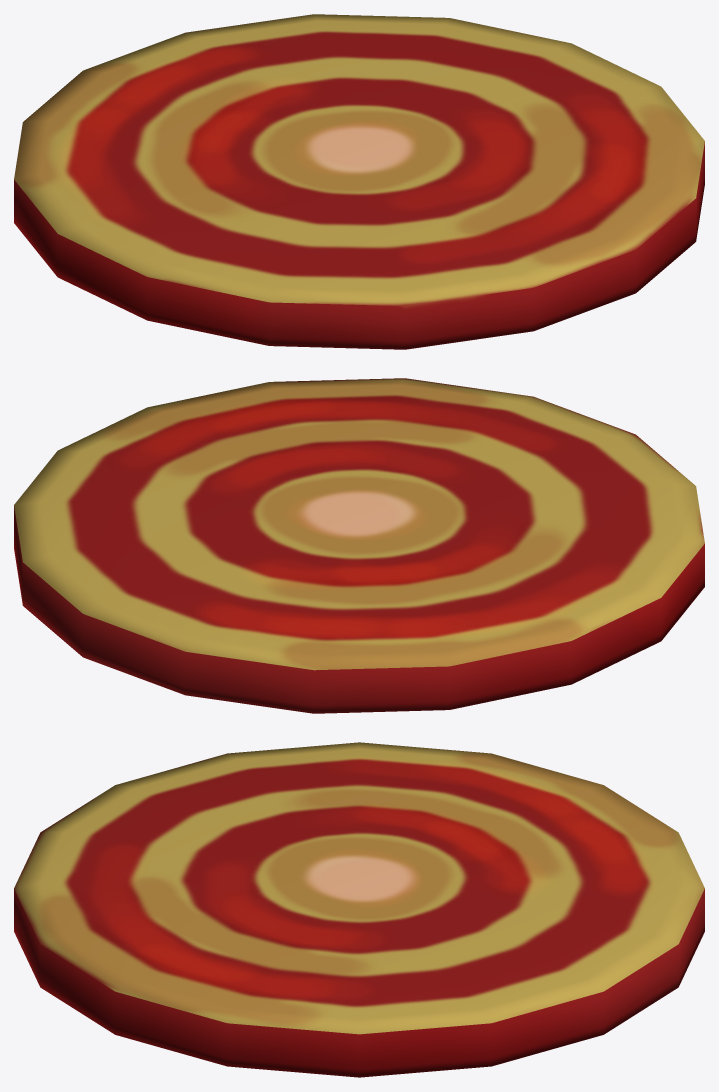
The model's file is spring_top.glb.
3 views of the same model, one above another, from view 1: azimuth 30°, elevation 25°; view 2: azimuth 150°, elevation 25°; view 3: azimuth 270°, elevation 25° (orthographic).
Visible parts, largest first — view 1: Top; view 2: Top; view 3: Top.
Boxes of the visible parts, x1,y1,x2,y2 form: Top: (14, 14, 704, 349); Top: (14, 378, 704, 713); Top: (14, 742, 704, 1077).
Size of the model in its own units: 2.06 by 0.1777 by 2.06.
Materials: 1 (1 with a texture image).
